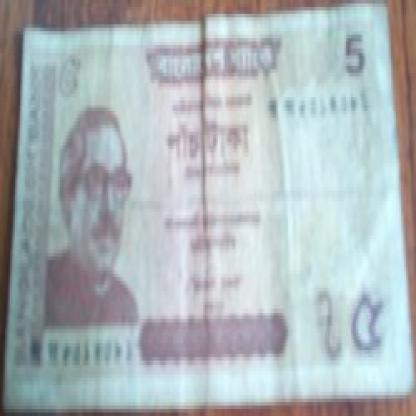Five Taka: (162, 118, 260, 166), (351, 277, 384, 371), (48, 45, 85, 97), (339, 28, 368, 83)
